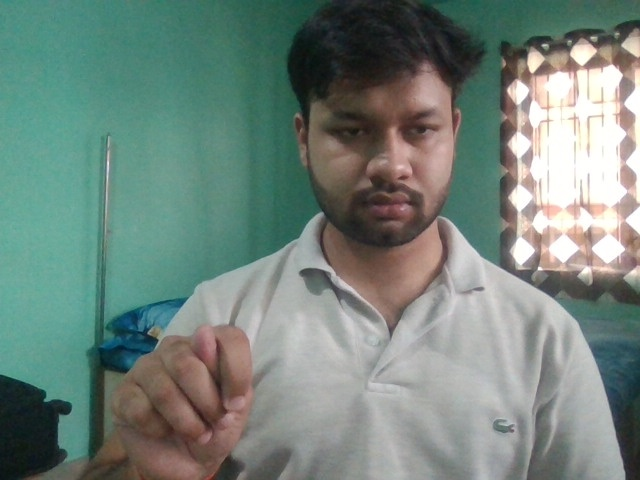Bathroom: (106, 318, 255, 480)
